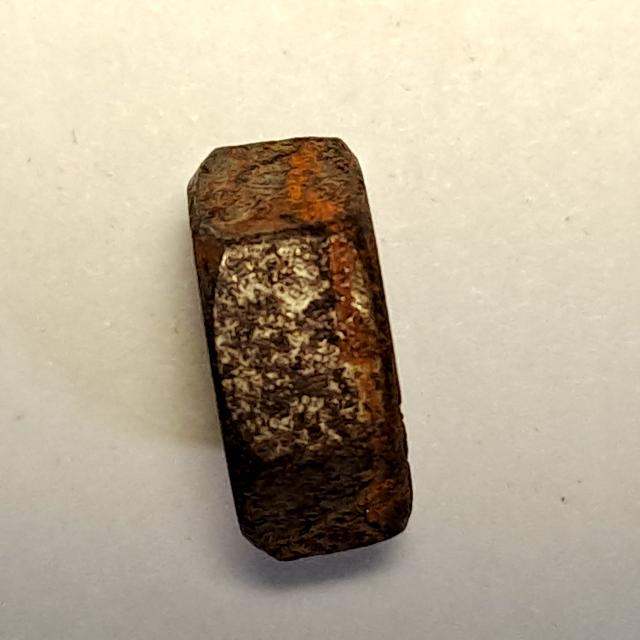Side_Rust: (177, 119, 429, 575)
